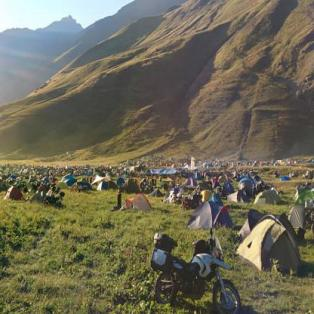Motocicleta: (145, 220, 242, 313)
